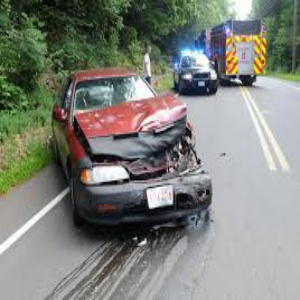bonnet: (83, 102, 190, 155)
bumper: (170, 158, 212, 224)
